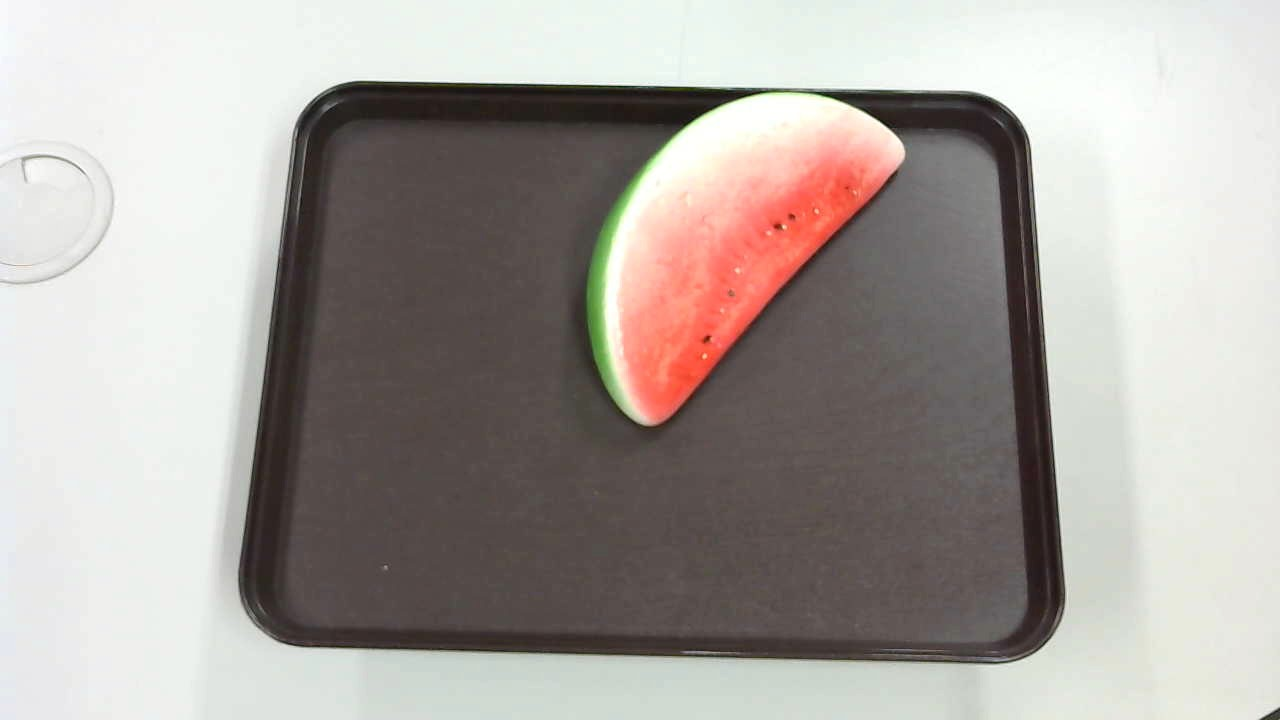water melon: (576, 83, 910, 432)
